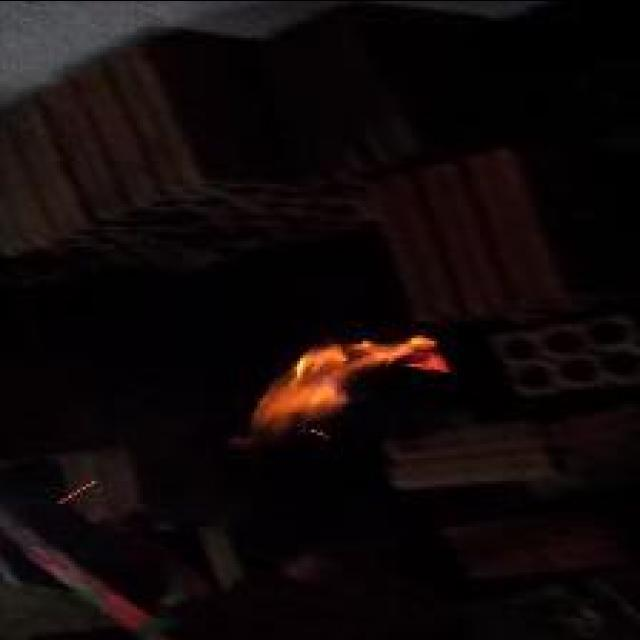Fire: (254, 333, 448, 430)
